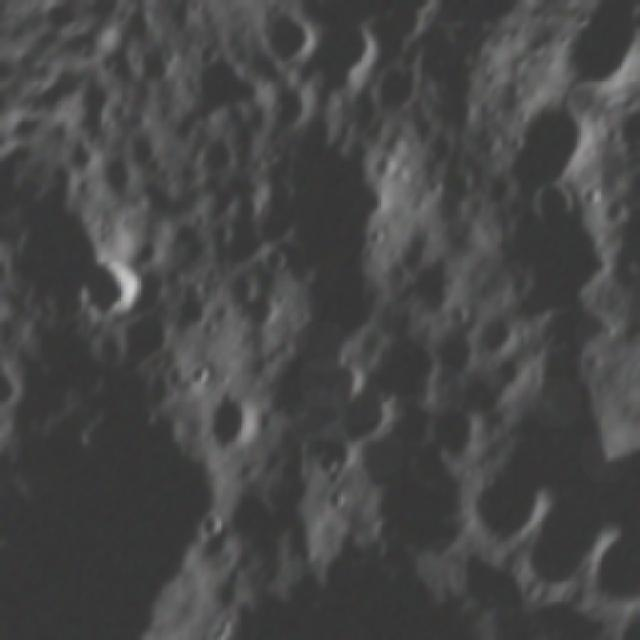crater: (0, 359, 245, 601), (477, 188, 632, 337), (0, 172, 135, 329), (448, 443, 568, 563), (497, 86, 605, 206), (348, 313, 466, 418), (175, 46, 277, 148), (293, 12, 392, 116), (528, 285, 632, 377), (321, 373, 417, 465), (188, 376, 278, 467), (70, 245, 158, 338), (417, 390, 505, 479), (212, 474, 297, 560), (244, 0, 328, 83), (390, 246, 472, 329), (358, 52, 434, 133), (514, 163, 586, 242), (205, 204, 277, 278), (457, 302, 528, 369), (229, 283, 289, 345), (127, 40, 184, 98), (0, 340, 34, 423), (187, 503, 238, 552), (254, 242, 294, 288), (178, 353, 219, 396), (0, 391, 15, 470), (629, 144, 640, 233), (219, 0, 313, 3)
